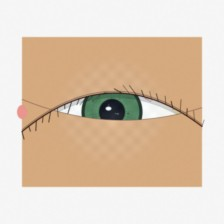pinguecula_lesion: (165, 97, 199, 125)
